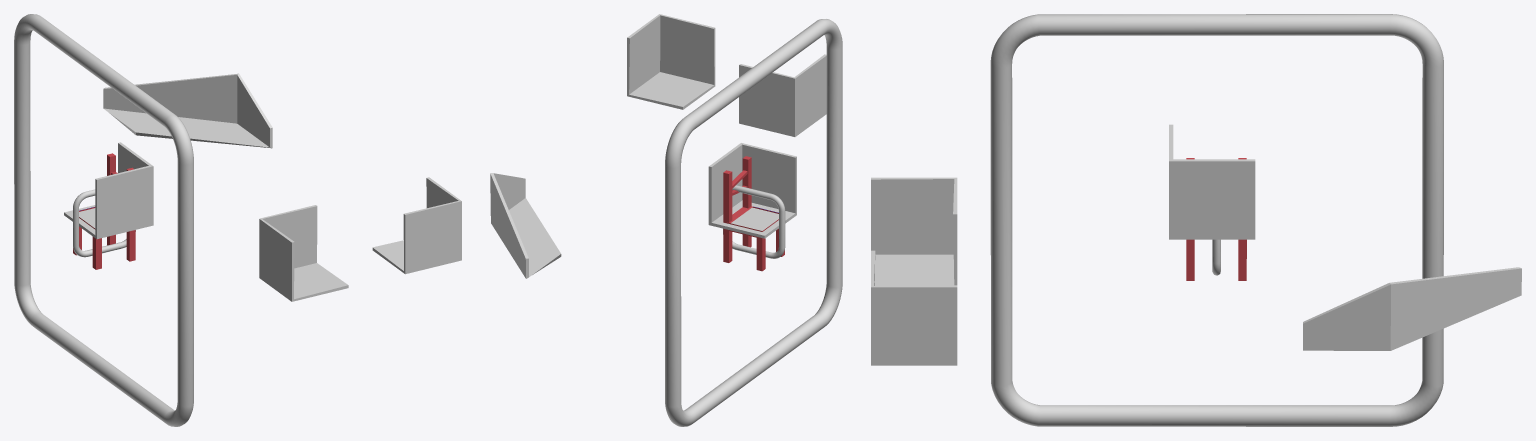
The model's file is test-chair .fbx.
3 renders of one model, left to right at view 1: azimuth 30°, elevation 25°; view 2: azimuth 150°, elevation 25°; view 3: azimuth 270°, elevation 25°, orthographic. The views are drawn at different scales.
Visible parts, largest first — view 1: Torus, Plane, Cube.003, Cube.002, Cube.005, Cube.006, Cube; view 2: Torus, Cube.002, Cube.005, Cube.003, Plane, Cube.006, Cube, Cube.004; view 3: Torus, Plane, Cube.003, Cube.005, Cube.002, Cube.006.
Boxes of the visible parts, x1,y1,x2,y2 form: Torus: (14,14,193,426); Plane: (103,73,272,148); Cube.003: (259,205,348,301); Cube.002: (372,177,461,274); Cube.005: (64,142,153,239); Cube.006: (73,153,135,269); Cube: (73,189,135,257); Torus: (665,19,842,426); Cube.002: (627,14,715,109); Cube.005: (708,143,796,238); Cube.003: (739,54,826,136); Plane: (490,173,561,278); Cube.006: (723,156,784,271); Cube: (723,185,785,258); Cube.004: (723,206,778,238); Torus: (990,14,1443,426); Plane: (1303,267,1521,350); Cube.003: (871,177,957,285); Cube.005: (1169,124,1255,239); Cube.002: (871,250,957,365); Cube.006: (1186,158,1246,280).
Size of the model in its own units: 910 by 1050 by 1507.
